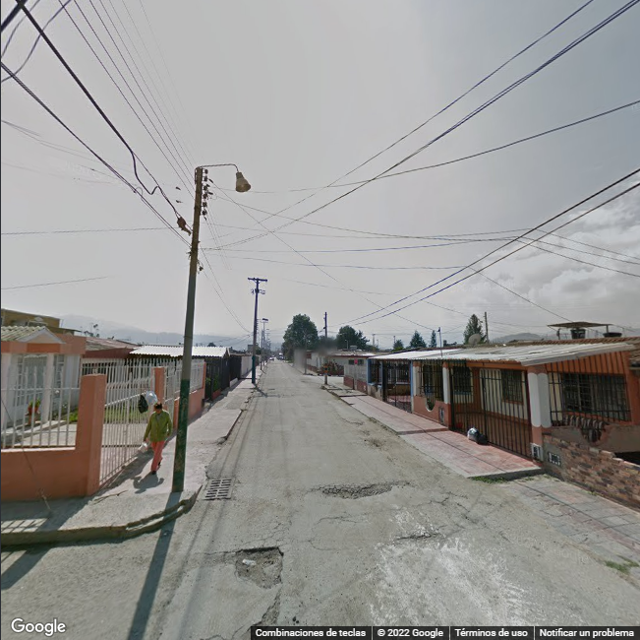D10: (312, 499, 436, 525)
D40: (236, 538, 293, 587), (323, 479, 394, 499)
